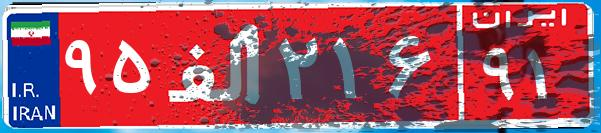1: (330, 28, 385, 110), (525, 38, 570, 115)
2: (273, 28, 330, 110)
5: (110, 28, 158, 105)
6: (385, 28, 445, 110)
9: (57, 26, 110, 107), (475, 38, 525, 113)
الف: (158, 15, 273, 115)
